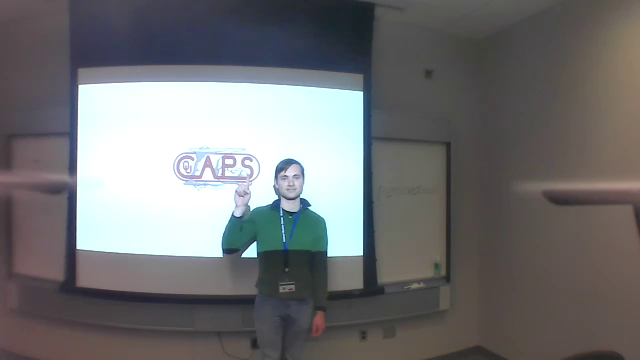up: (233, 173, 254, 204)
